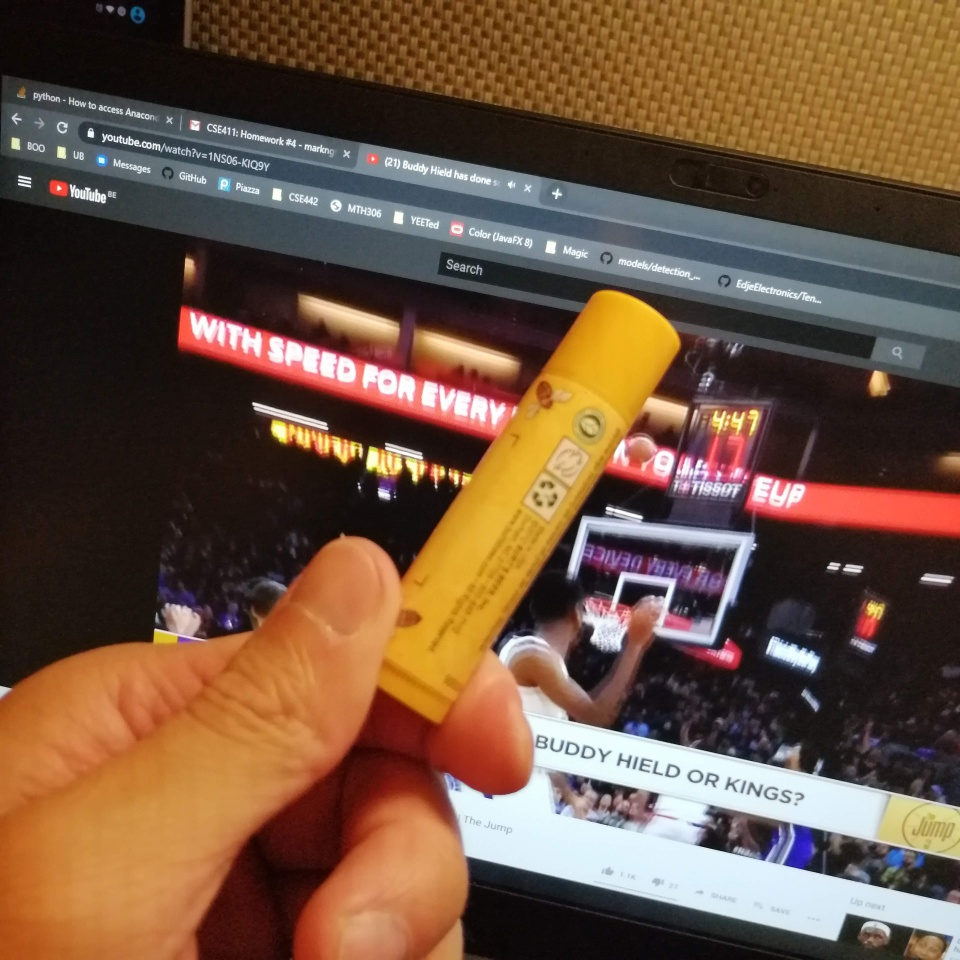chapstick: (357, 283, 684, 730)
